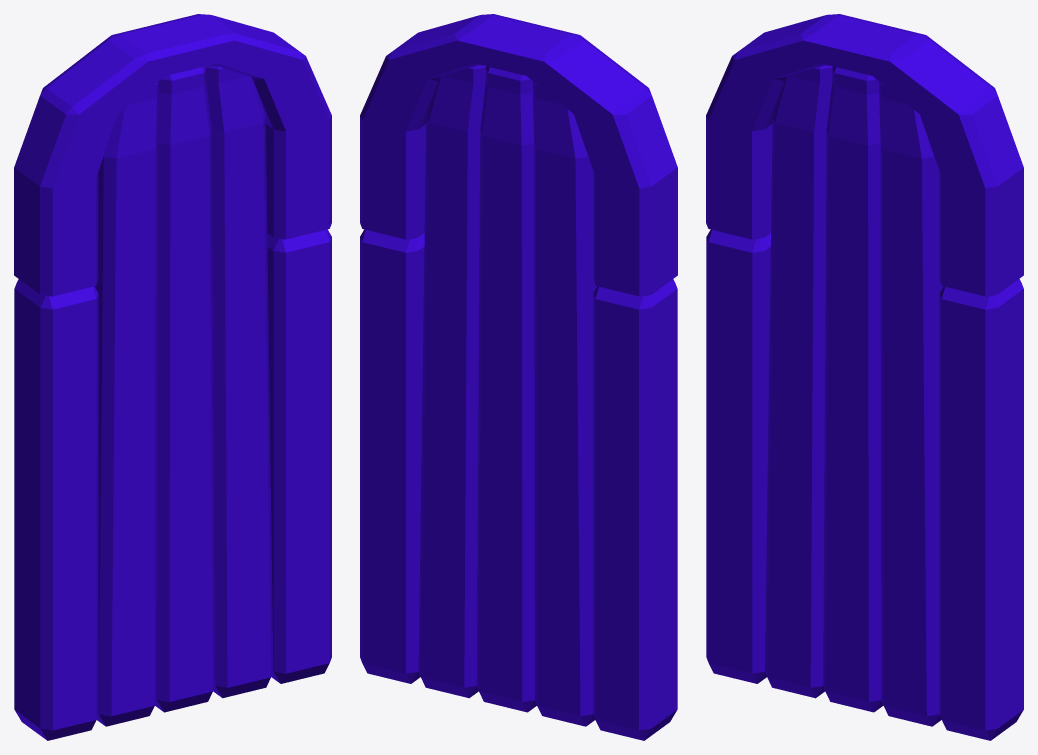
The model's file is Assetsgame_Deur.fbx.
3 views of the same model, side by side, from view 1: azimuth 30°, elevation 25°; view 2: azimuth 150°, elevation 25°; view 3: azimuth 330°, elevation 25° (orthographic).
Parts seen in each view (by area): view 1: Cube.006; view 2: Cube.006; view 3: Cube.006.
Part boxes in pixels (left/top/right/bottom): Cube.006: left=14, top=14, right=331, bottom=740; Cube.006: left=360, top=14, right=677, bottom=740; Cube.006: left=706, top=14, right=1023, bottom=740.
Size of the model in its own units: 227 by 493 by 48.93.
